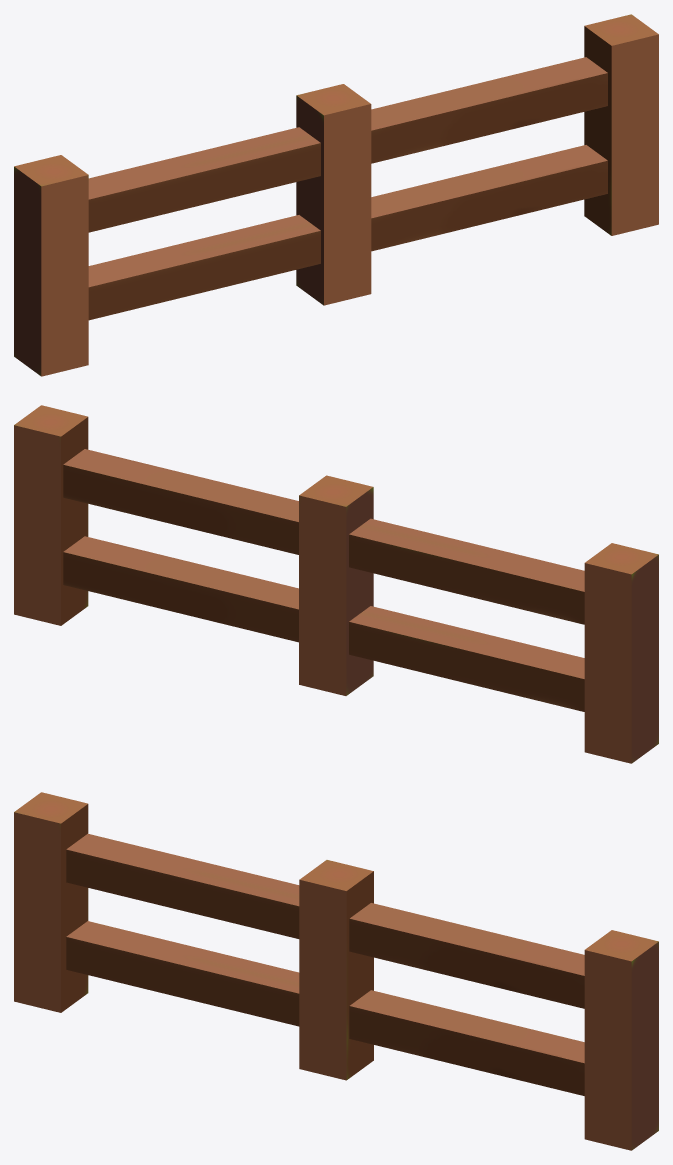
File: Ground_Fence_side.fbx
3 renders of one model, top to bottom at view 1: azimuth 30°, elevation 25°; view 2: azimuth 150°, elevation 25°; view 3: azimuth 330°, elevation 25°, orthographic.
Visible parts, largest first — view 1: Ground_Fence_side; view 2: Ground_Fence_side; view 3: Ground_Fence_side.
Part boxes in pixels (x1,y1,x2,y2): Ground_Fence_side: (14, 14, 658, 376); Ground_Fence_side: (14, 405, 658, 763); Ground_Fence_side: (14, 792, 658, 1150).
Bounding box in the file's own units: 8.73 × 0.7249 × 2.56.
